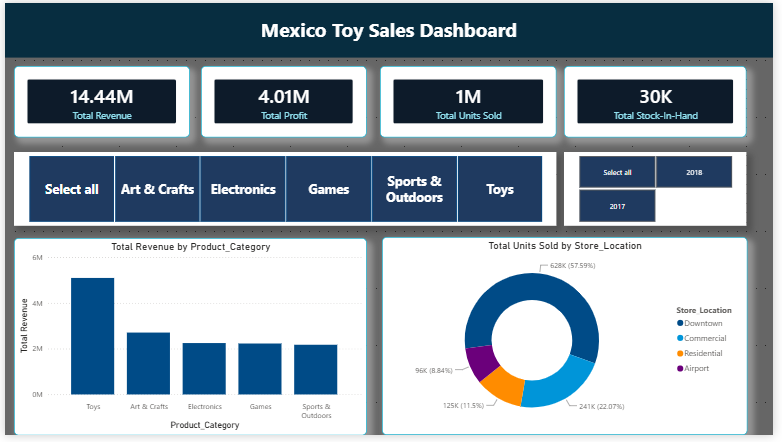

What the dashboard file says about the page in this screenshot:
{"tool":"powerbi","page":{"name":"Overview","canvas":[1280,720],"ordinal":0},"visuals":[{"type":"textbox","box":[0,0,1280,91.2],"z":0},{"type":"cardVisual","fields":{"Data":["Measures_1.Total Revenue"]},"box":[15.7,104.3,292.9,118.6],"z":1000},{"type":"cardVisual","fields":{"Data":["Measures_1.Total Profit"]},"box":[327.1,104.3,275.7,118.6],"z":2000},{"type":"cardVisual","fields":{"Data":["Measures_1.Total Stock-In-Hand"]},"box":[931.4,104.3,304.3,118.6],"z":3000},{"type":"cardVisual","fields":{"Data":["Measures_1.Total Units Sold"]},"box":[625.7,104.3,294.3,118.6],"z":4000},{"type":"clusteredColumnChart","fields":{"Category":["products.Product_Category"],"Y":["Measures_1.Total Revenue"]},"box":[15,391.2,587.5,328.8],"z":5000},{"type":"donutChart","fields":{"Category":["stores.Store_Location"],"Y":["Measures_1.Total Units Sold"]},"box":[627.5,390,608.8,330],"z":6000},{"type":"slicer","title":"Product Category","fields":{"Values":["products.Product_Category"]},"box":[15.7,248.6,904.3,122.9],"z":9002},{"type":"slicer","title":"Sales Year","fields":{"Values":["dim_date.year_name"]},"box":[931.4,248.6,304.3,122.9],"z":9003}]}

Visuals, with their boxes in screenshot pixels (x1, y1, x2, y2), scaled from the page's 1280x720 canvas onto the 782x442 screenshot:
textbox: bbox=[0, 0, 781, 56]
cardVisual - Measures_1.Total Revenue: bbox=[10, 64, 189, 137]
cardVisual - Measures_1.Total Profit: bbox=[200, 64, 368, 137]
cardVisual - Measures_1.Total Stock-In-Hand: bbox=[569, 64, 755, 137]
cardVisual - Measures_1.Total Units Sold: bbox=[382, 64, 562, 137]
clusteredColumnChart - products.Product_Category x Measures_1.Total Revenue: bbox=[9, 240, 368, 441]
donutChart - stores.Store_Location x Measures_1.Total Units Sold: bbox=[383, 239, 755, 441]
"Product Category" slicer: bbox=[10, 153, 562, 228]
"Sales Year" slicer: bbox=[569, 153, 755, 228]
